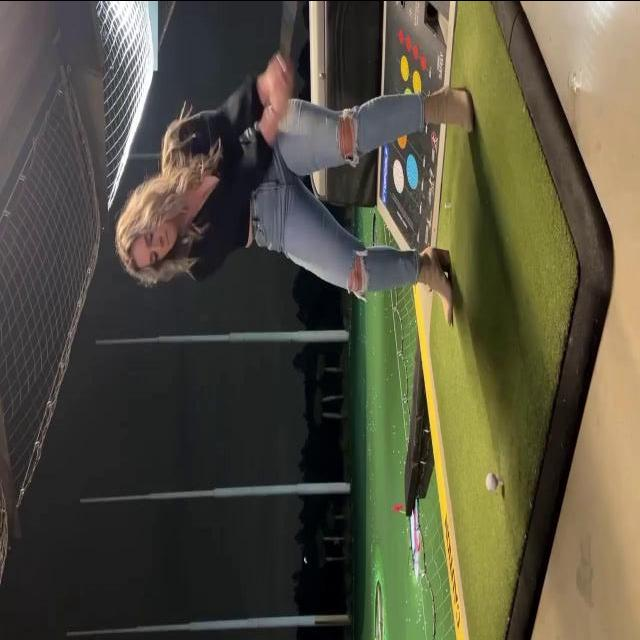ClubHandle: (272, 0, 308, 95)
GolfBall: (483, 468, 497, 490)
